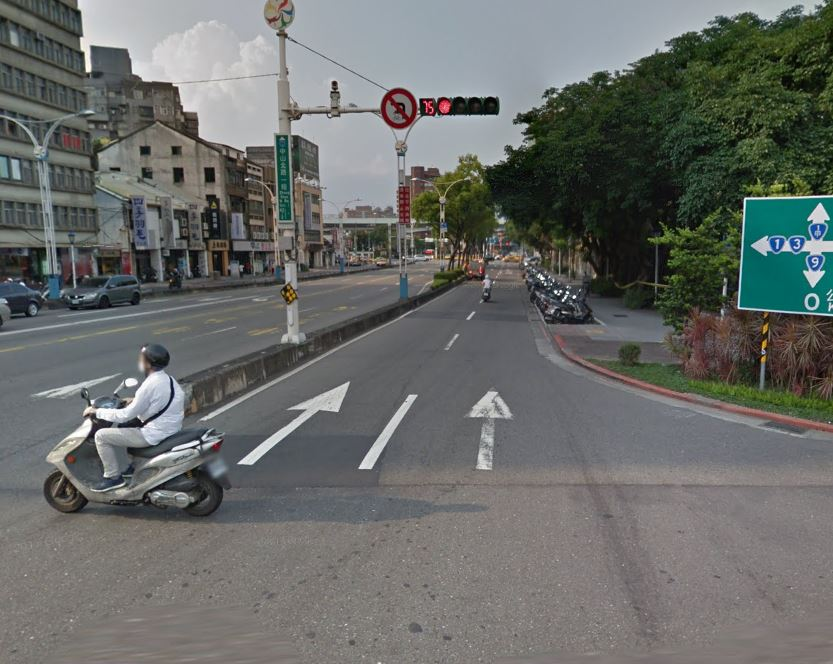Traffic_light_red: (420, 97, 501, 117)
